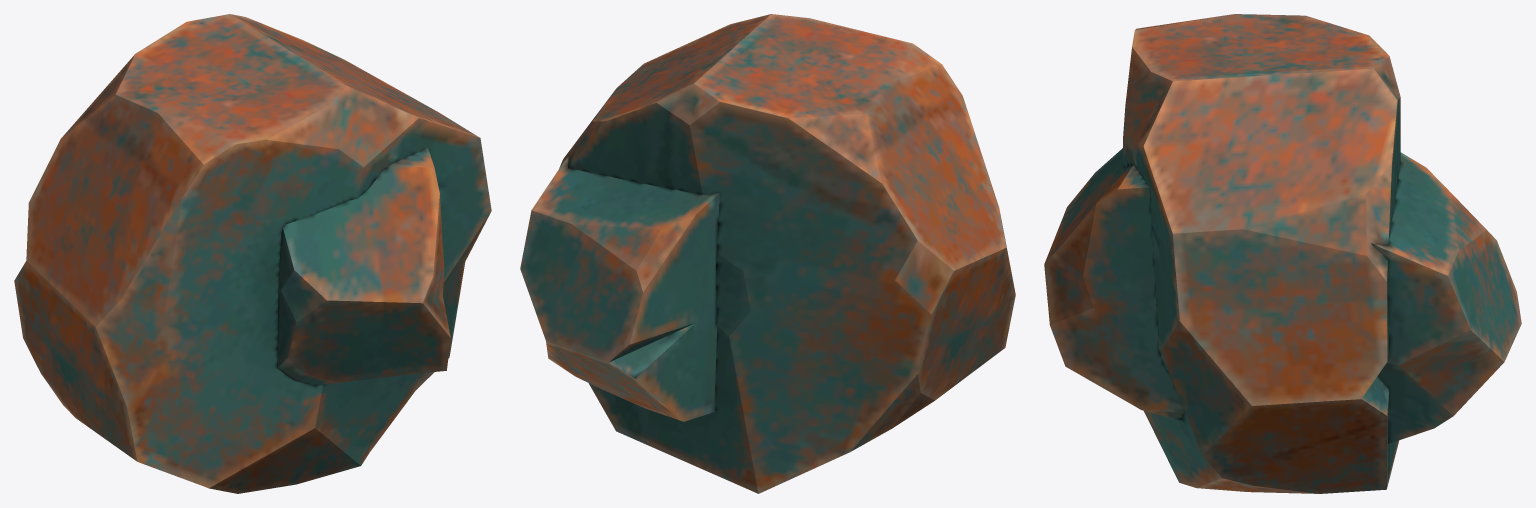
Rendered from CopperCrushed.glb.
3 renders of one model, left to right at view 1: azimuth 30°, elevation 25°; view 2: azimuth 150°, elevation 25°; view 3: azimuth 270°, elevation 25°, orthographic. The views are drawn at different scales.
Parts seen in each view (by area): view 1: CopperCrushed; view 2: CopperCrushed; view 3: CopperCrushed.
Part boxes in pixels (box(x1,y1,x2,y2)): CopperCrushed: box(14, 14, 491, 493); CopperCrushed: box(520, 14, 1015, 493); CopperCrushed: box(1044, 14, 1521, 493).
Size of the model in its own units: 0.1571 by 0.1466 by 0.1547.
1 material, 1 textured.
